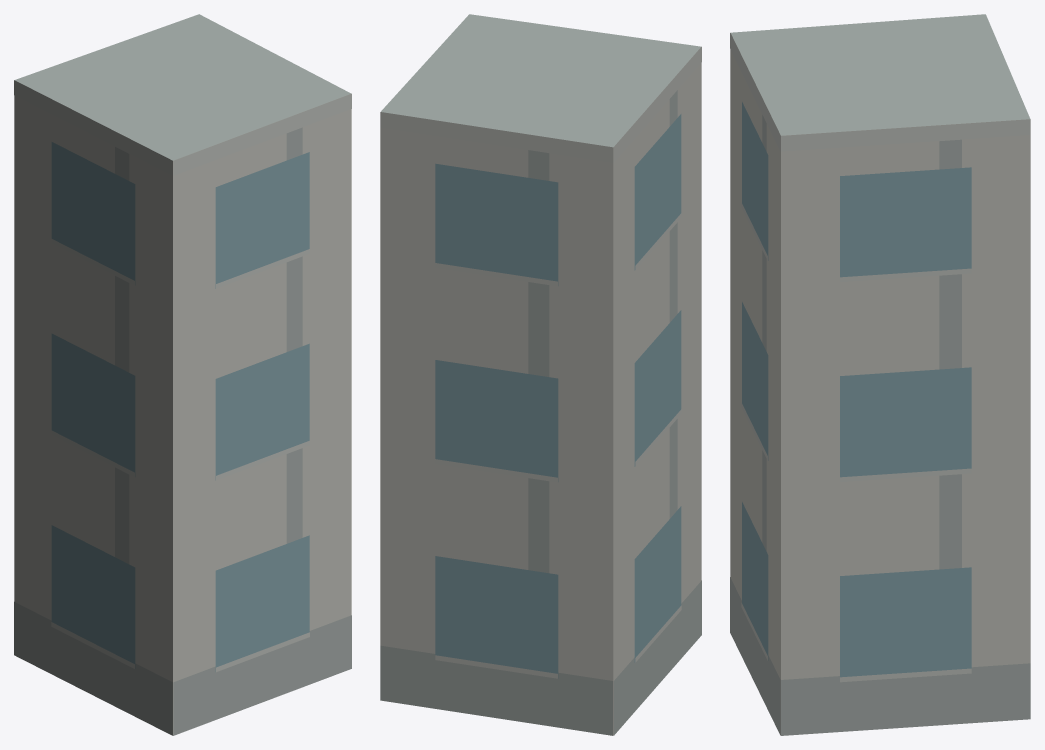
File: survey-upis-32737643.glb
3 renders of one model, left to right at view 1: azimuth 30°, elevation 25°; view 2: azimuth 150°, elevation 25°; view 3: azimuth 270°, elevation 25°, orthographic. The views are drawn at different scales.
Visible parts, largest first — view 1: survey-upis-32737643.tmp; view 2: survey-upis-32737643.tmp; view 3: survey-upis-32737643.tmp.
Boxes of the visible parts, bbox=[...] form: survey-upis-32737643.tmp: bbox=[14, 14, 351, 735]; survey-upis-32737643.tmp: bbox=[380, 14, 701, 735]; survey-upis-32737643.tmp: bbox=[730, 14, 1030, 735].
Size of the model in its own units: 3.99 by 9.15 by 4.16.
